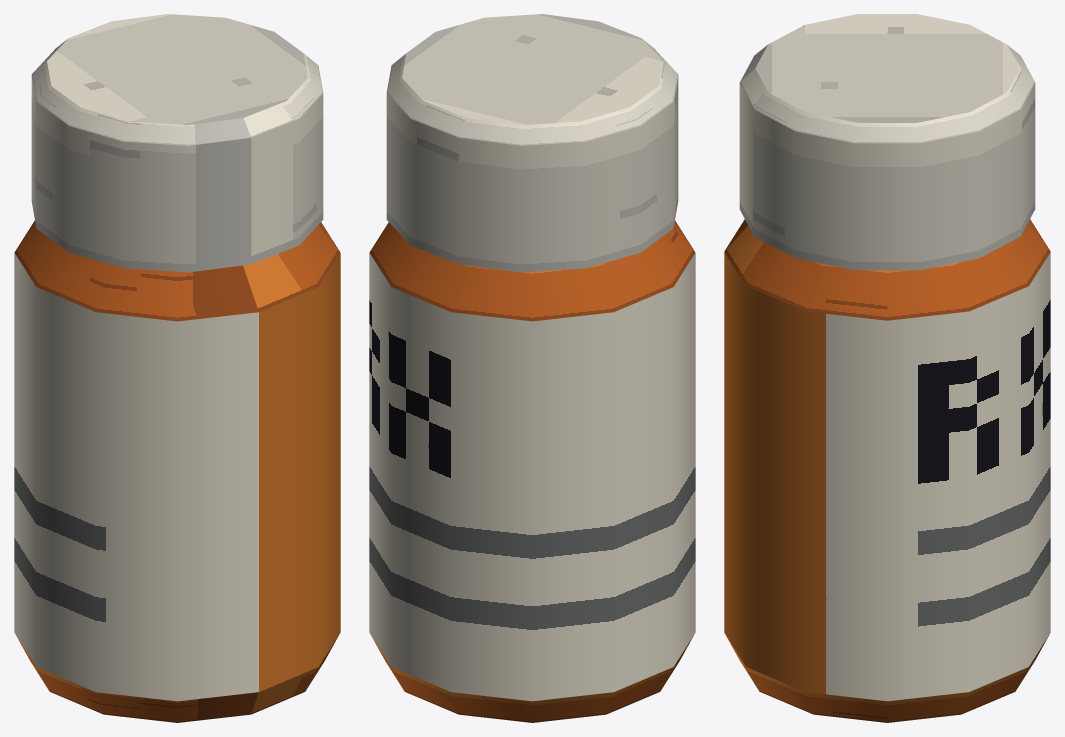
The model's file is INV_MedicineBottle.glb.
The picture shows the model from 3 angles, left to right: view 1: azimuth 30°, elevation 25°; view 2: azimuth 150°, elevation 25°; view 3: azimuth 270°, elevation 25°; orthographic projection.
Visible parts, largest first — view 1: INV_MedicineBottle_Mesh; view 2: INV_MedicineBottle_Mesh; view 3: INV_MedicineBottle_Mesh.
Part boxes in pixels (x1,y1,x2,y2): INV_MedicineBottle_Mesh: (14, 14, 340, 722); INV_MedicineBottle_Mesh: (369, 14, 695, 722); INV_MedicineBottle_Mesh: (724, 14, 1050, 722).
Size of what is drawn, in the model's own units: 0.042 by 0.084 by 0.042.
1 material, 1 textured.
